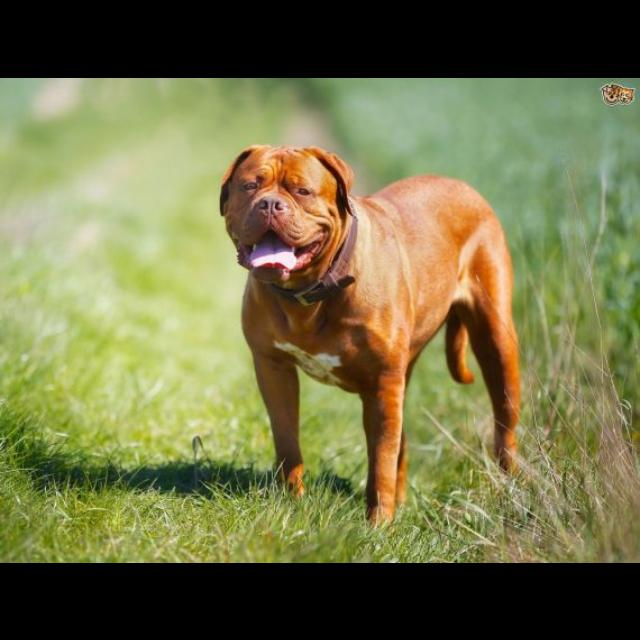dogue_de_bordeaux: (220, 142, 525, 530)
